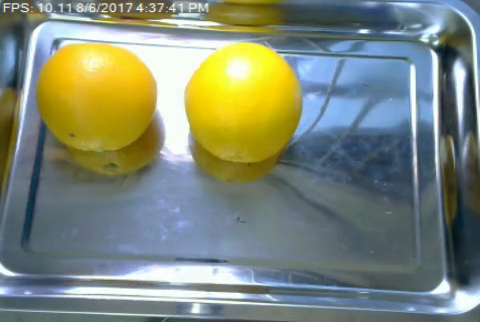Orange: (183, 40, 303, 161), (36, 43, 156, 151)
